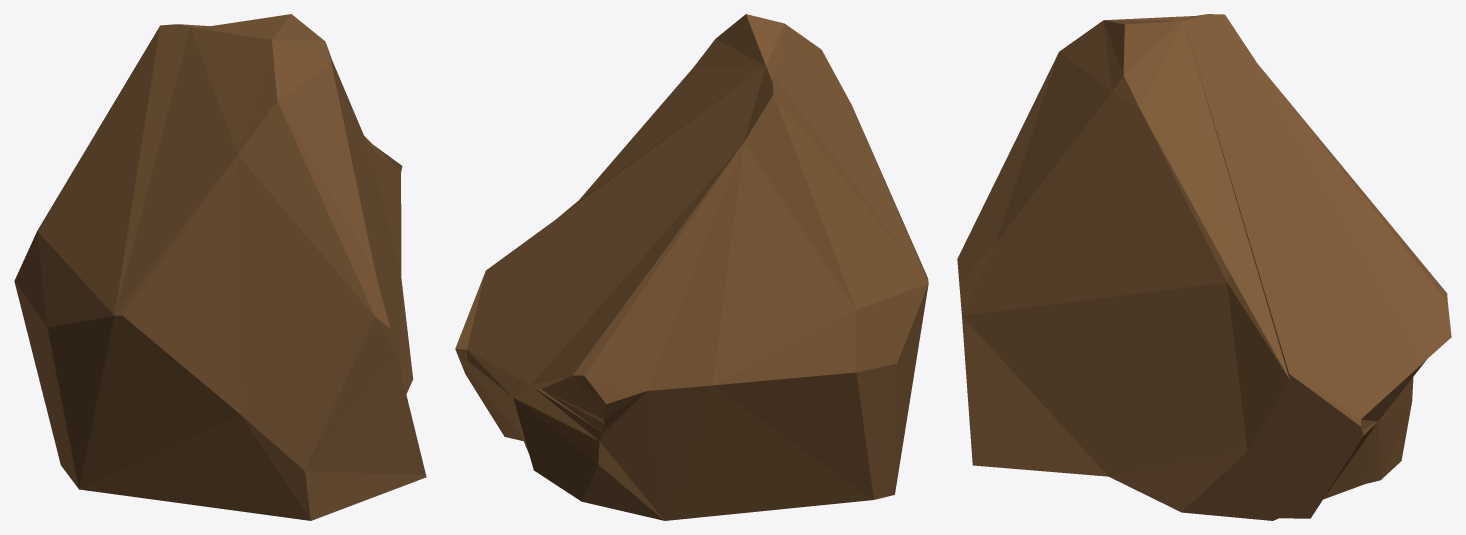
Rendered from Piedra grande.fbx.
3 views of the same model, side by side, from view 1: azimuth 30°, elevation 25°; view 2: azimuth 150°, elevation 25°; view 3: azimuth 270°, elevation 25° (orthographic). The views are drawn at different scales.
Visible parts, largest first — view 1: Piedra 5; view 2: Piedra 5; view 3: Piedra 5.
Part boxes in pixels (box(x1,y1,x2,y2)): Piedra 5: box(14, 14, 426, 520); Piedra 5: box(455, 14, 928, 520); Piedra 5: box(957, 14, 1451, 520).
Size of the model in its own units: 6.32 by 6.83 by 6.92.
